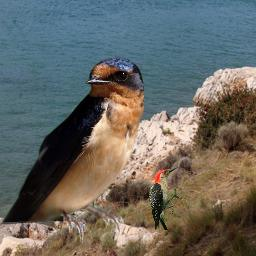Swallow: (0, 56, 144, 242)
Woodpecker: (149, 167, 182, 230)
